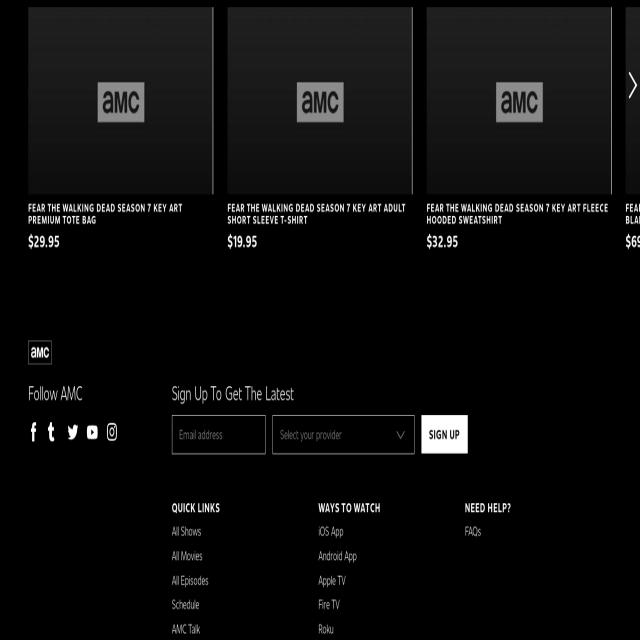button: (28, 0, 214, 289), (228, 0, 412, 289), (427, 4, 613, 288), (624, 7, 640, 287), (422, 415, 468, 454), (28, 336, 52, 368), (626, 64, 640, 111), (87, 422, 98, 442), (48, 422, 58, 442), (68, 422, 78, 442), (107, 422, 117, 442), (29, 422, 39, 442)
field: (273, 416, 414, 452), (172, 416, 266, 454)
